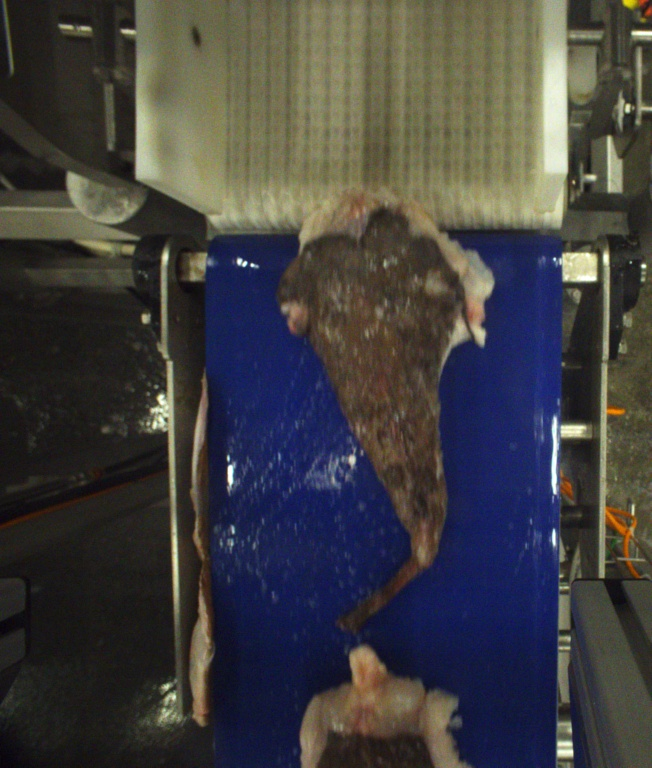ANF: (292, 645, 469, 768)
